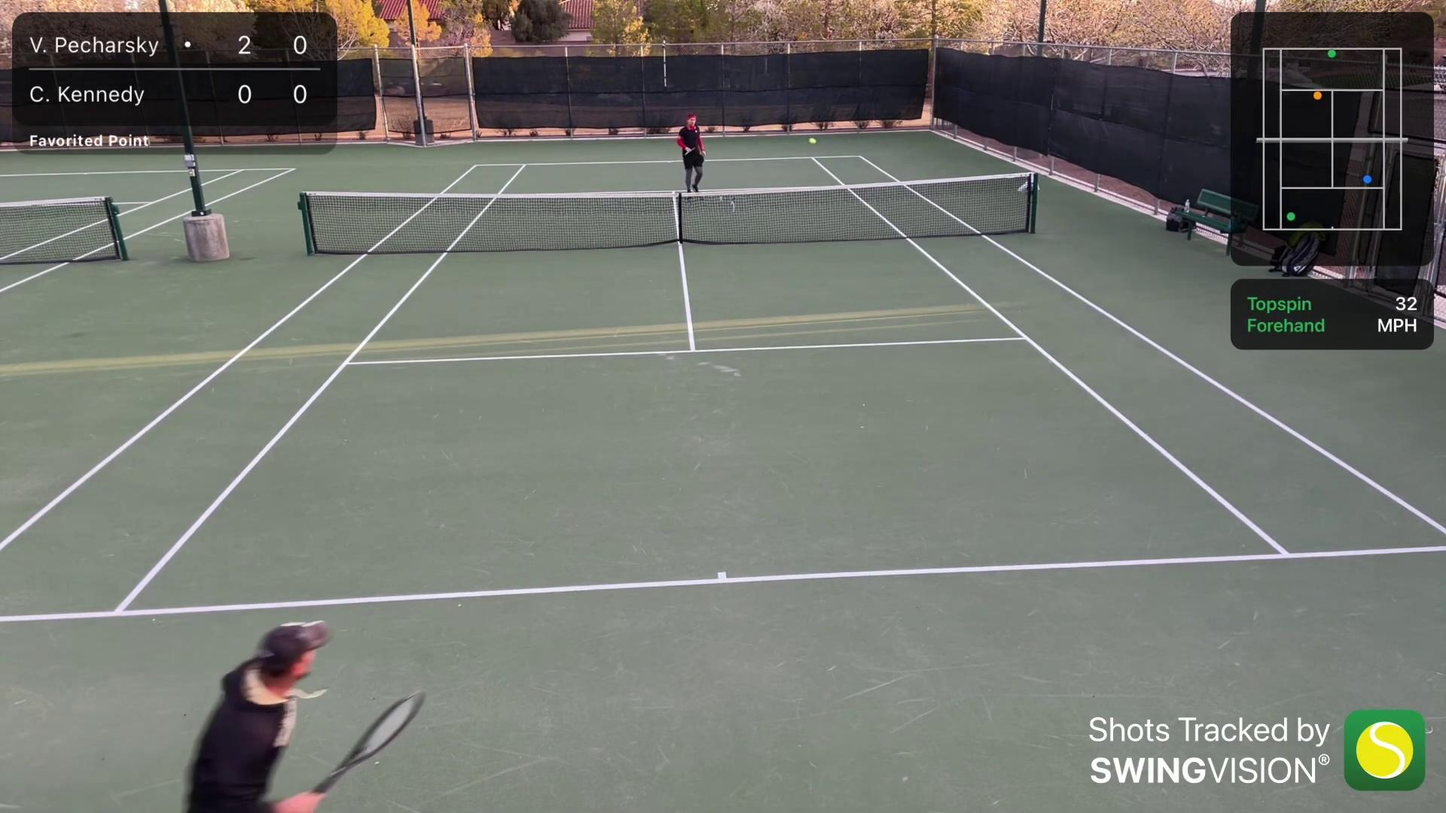ball: (811, 139, 818, 145)
